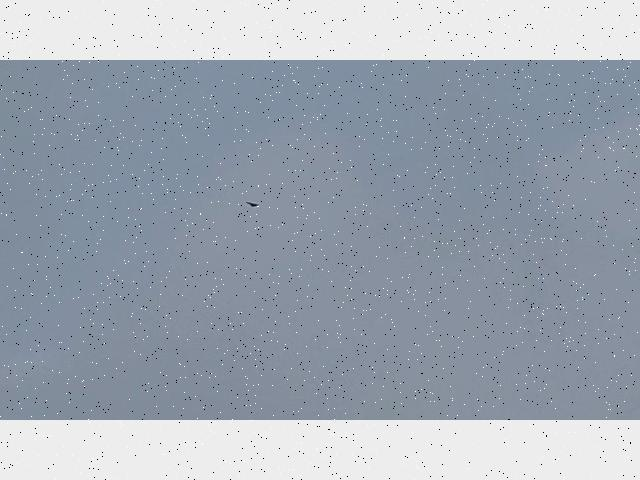Anti-Drone: (246, 199, 260, 209)
